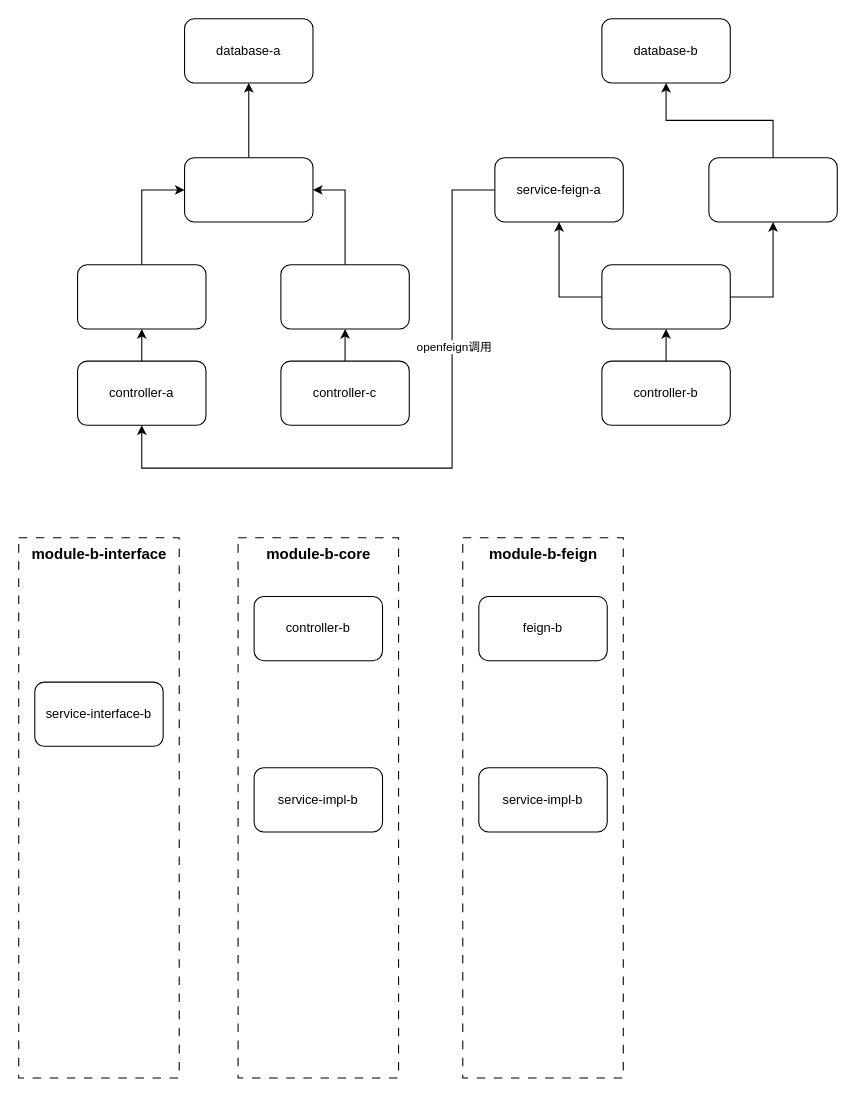
This 856x1097 diagram has some shape labels left out. The shapes that lost their labels are listed below. From the top down, each one's box as (x1, y1, x2, y2) in pixels, then its label:
(184, 157, 313, 222): dao-a
(708, 157, 837, 222): dao-b
(77, 264, 206, 329): service-a
(280, 264, 409, 329): service-c
(601, 264, 730, 329): service-b
